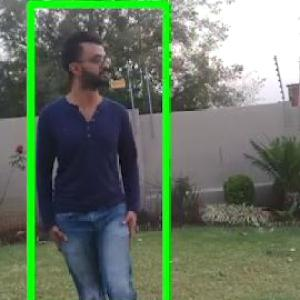follow: (40, 26, 133, 284)
